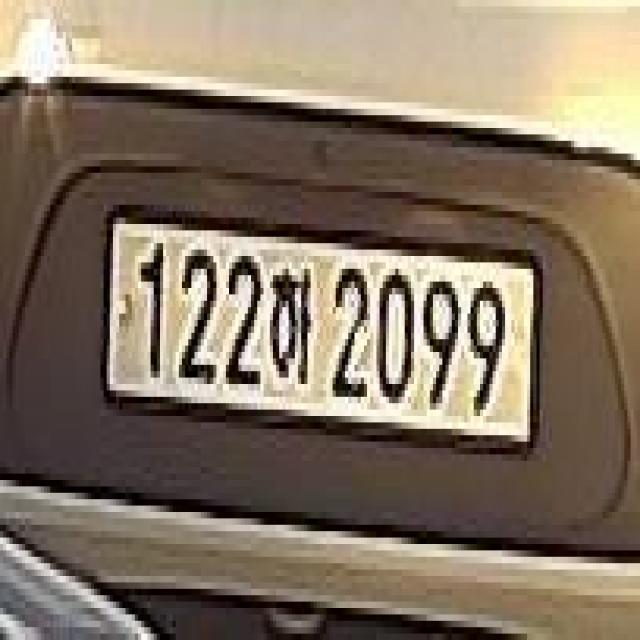illegal_plate: (101, 205, 541, 472)
